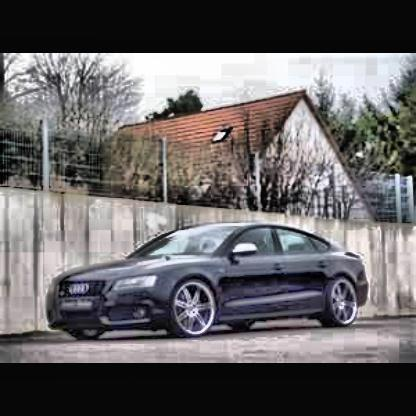Audi S5 Coupe 2012: (48, 224, 371, 343)
